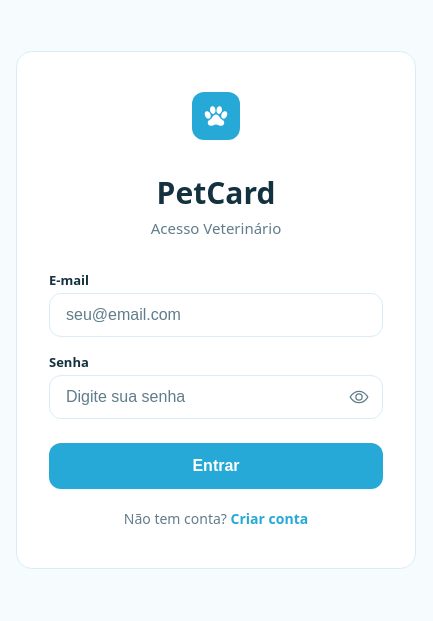
Test: VetLoginPage › mostra erro genérico para falhas não-401
Type "vet@petcard.com" into the field labelled "E-mail" at x=216, y=315, box [49,293,383,337]
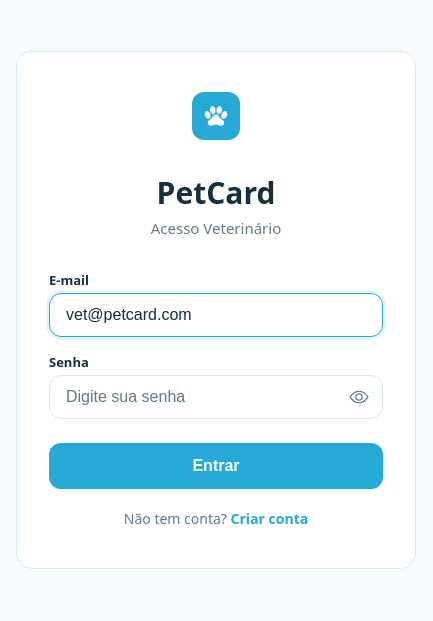
Type "senha123" into the password field labelled "Senha" at x=216, y=397, box [49,375,383,419]
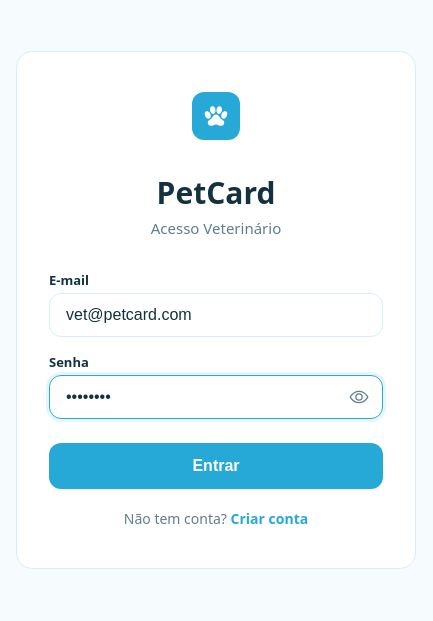
Click the button "Entrar" at x=216, y=466, box [49,443,383,489]
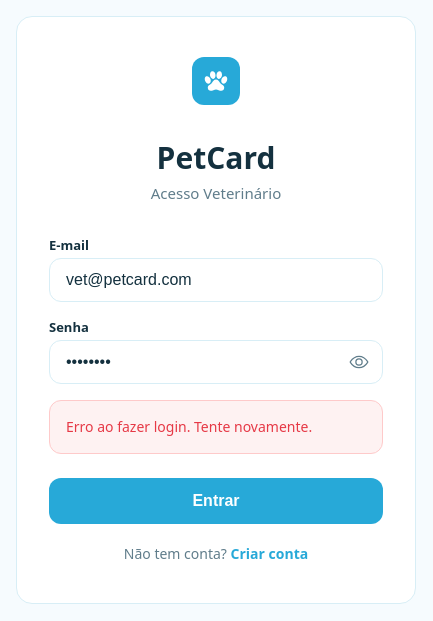
Check: the text "Erro ao fazer login. Tente novamente." is shown, box [49,400,383,454]
